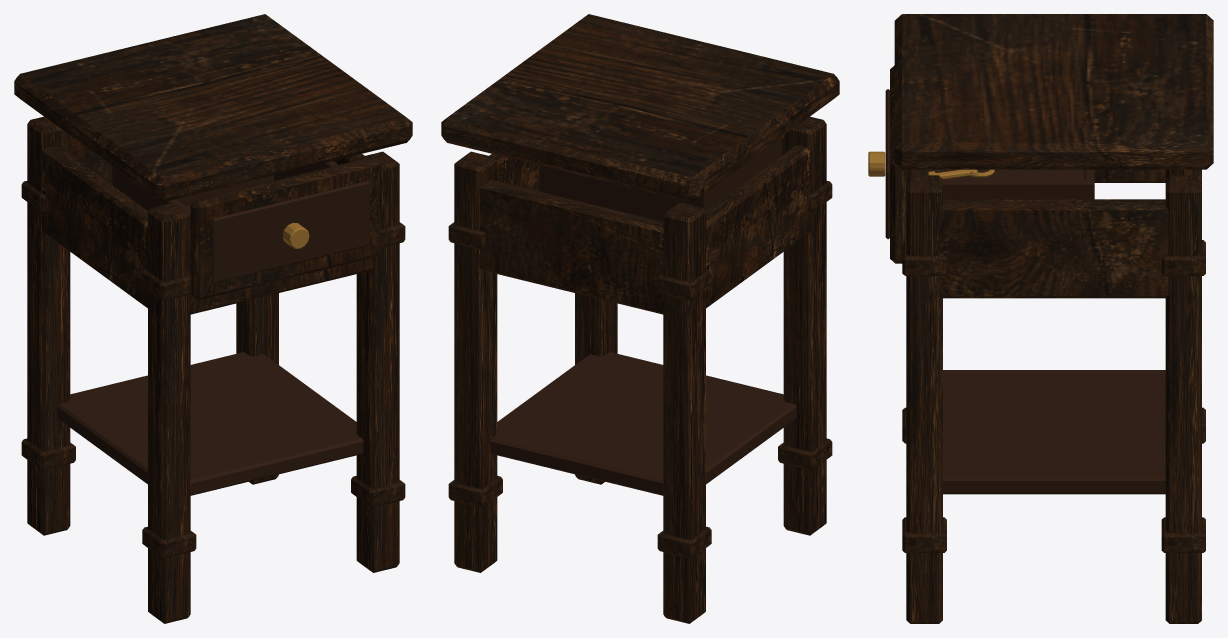
File: bedside_puzzle_table.glb
3 views of the same model, side by side, from view 1: azimuth 30°, elevation 25°; view 2: azimuth 150°, elevation 25°; view 3: azimuth 270°, elevation 25° (orthographic). The views are drawn at different scales.
Parts seen in each view (by area): view 1: Level1TableTop, Level1TableShelf, Level1TableTurnedLeg, Level1TableTurnedLeg.002, Level1TableTurnedLeg.001, Level1TableSideApronL, Level1DrawerInset, Level1DrawerFront, Level1TableTurnedLeg.003, Level1TableFrontApron, Level1TableLegCollar.001, Level1TableLegCollar (+5 smaller); view 2: Level1TableTop, Level1TableShelf, Level1TableBackApron, Level1TableTurnedLeg.001, Level1TableTurnedLeg.003, Level1TableTurnedLeg, Level1TableSideApronL, Level1DrawerBack, Level1TableTurnedLeg.002, Level1DrawerSideL, Level1TableSideApronR, Level1TableLegCollar (+4 smaller); view 3: Level1TableTop, Level1TableShelf, Level1TableSideApronR, Level1TableTurnedLeg.002, Level1TableTurnedLeg.003, Level1DrawerSideR, Level1DrawerFront, Level1DrawerFloor, Level1TableLegCollar.002, Level1TableLegCollar.003, Level1TableSideApronL, Level1TableLegCap.002 (+2 smaller).
Part boxes in pixels (x1,y1,x2,y2): Level1TableTop: (14, 14, 412, 202); Level1TableShelf: (57, 352, 363, 495); Level1TableTurnedLeg: (148, 202, 190, 623); Level1TableTurnedLeg.002: (356, 151, 399, 572); Level1TableTurnedLeg.001: (27, 116, 70, 535); Level1TableSideApronL: (42, 145, 148, 308); Level1DrawerInset: (211, 181, 369, 283); Level1DrawerFront: (190, 156, 380, 300); Level1TableTurnedLeg.003: (236, 293, 278, 484); Level1TableFrontApron: (189, 230, 373, 314); Level1TableLegCollar.001: (21, 438, 75, 470); Level1TableLegCollar: (142, 526, 196, 558); Level1TableTop: (441, 14, 839, 202); Level1TableShelf: (490, 352, 796, 495); Level1TableBackApron: (480, 179, 664, 314); Level1TableTurnedLeg.001: (663, 202, 705, 623); Level1TableTurnedLeg.003: (454, 151, 497, 572); Level1TableTurnedLeg: (783, 116, 826, 535); Level1TableSideApronL: (705, 145, 811, 308); Level1DrawerBack: (539, 165, 708, 221); Level1TableTurnedLeg.002: (575, 293, 617, 484); Level1DrawerSideL: (706, 137, 782, 210); Level1TableSideApronR: (489, 154, 539, 191); Level1TableLegCollar: (778, 438, 832, 470); Level1TableTop: (894, 14, 1213, 169); Level1TableShelf: (943, 370, 1165, 494); Level1TableSideApronR: (940, 199, 1168, 298); Level1TableTurnedLeg.002: (906, 175, 942, 623); Level1TableTurnedLeg.003: (1165, 175, 1201, 623); Level1DrawerSideR: (943, 179, 1091, 199); Level1DrawerFront: (890, 65, 907, 263); Level1DrawerFloor: (928, 169, 1084, 179); Level1TableLegCollar.002: (902, 517, 946, 552); Level1TableLegCollar.003: (1161, 517, 1205, 552); Level1TableSideApronL: (1094, 169, 1165, 182); Level1TableLegCap.002: (902, 241, 946, 275).
Size of the model in its own units: 0.48 by 0.805 by 0.52.
Materials: 3 (1 with a texture image).
